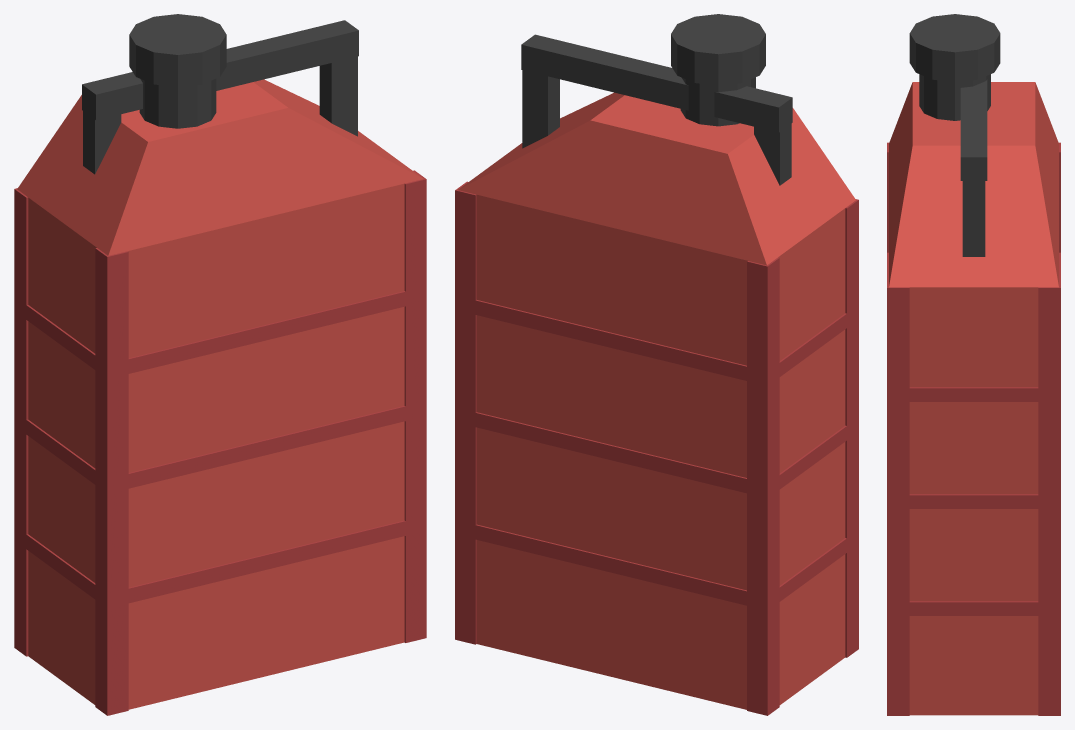
The model's file is Gas Can.fbx.
The picture shows the model from 3 angles, left to right: view 1: azimuth 30°, elevation 25°; view 2: azimuth 150°, elevation 25°; view 3: azimuth 270°, elevation 25°; orthographic projection. The views are drawn at different scales.
Visible parts, largest first — view 1: Body, Shoulder, VRib-1-1, VRib1-1, HBar, VRib-11, Rib0.25, Rib0.12, Rib0.38, Cap, Neck, HLegR (+1 smaller); view 2: Body, Shoulder, VRib-11, VRib11, HBar, Rib0.12, Rib0.38, Rib0.25, VRib-1-1, Cap, HLegR, Neck (+1 smaller); view 3: Body, Shoulder, VRib11, VRib1-1, Cap, HBar, Rib0.38, Rib0.25, Rib0.12, HLegR, Neck.
Boxes of the visible parts, bbox=[...] form: Body: bbox=[28, 183, 404, 709]; Shoulder: bbox=[17, 79, 423, 255]; VRib-1-1: bbox=[95, 248, 128, 715]; VRib1-1: bbox=[404, 170, 426, 642]; HBar: bbox=[82, 20, 358, 120]; VRib-11: bbox=[14, 188, 28, 656]; Rib0.25: bbox=[14, 401, 426, 493]; Rib0.12: bbox=[26, 516, 426, 608]; Rib0.38: bbox=[14, 290, 414, 378]; Cap: bbox=[129, 14, 226, 86]; Neck: bbox=[139, 79, 216, 128]; HLegR: bbox=[319, 56, 357, 136]; Body: bbox=[476, 195, 845, 709]; Shoulder: bbox=[458, 92, 855, 265]; VRib-11: bbox=[747, 257, 779, 715]; VRib11: bbox=[455, 181, 476, 644]; HBar: bbox=[521, 34, 792, 132]; Rib0.12: bbox=[455, 520, 858, 610]; Rib0.38: bbox=[455, 295, 849, 385]; Rib0.25: bbox=[455, 408, 846, 498]; VRib-1-1: bbox=[845, 199, 858, 657]; Cap: bbox=[671, 14, 765, 85]; HLegR: bbox=[522, 70, 559, 148]; Neck: bbox=[680, 77, 755, 126]; Body: bbox=[909, 287, 1038, 715]; Shoulder: bbox=[889, 82, 1058, 287]; VRib11: bbox=[1038, 278, 1060, 715]; VRib1-1: bbox=[887, 278, 909, 715]; Cap: bbox=[909, 14, 1000, 82]; HBar: bbox=[960, 79, 987, 180]; Rib0.38: bbox=[887, 252, 1060, 401]; Rib0.25: bbox=[887, 494, 1060, 508]; Rib0.12: bbox=[887, 601, 1060, 615]; HLegR: bbox=[962, 168, 985, 256]; Neck: bbox=[919, 74, 990, 120].
Size of the model in its own units: 36.4 by 68.5 by 18.4.
